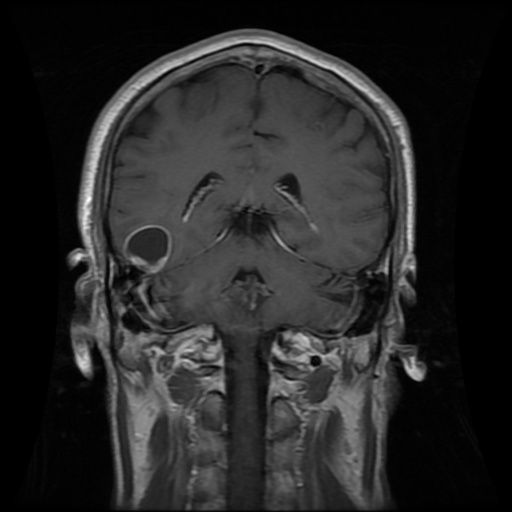glioma: (123, 224, 174, 273)
